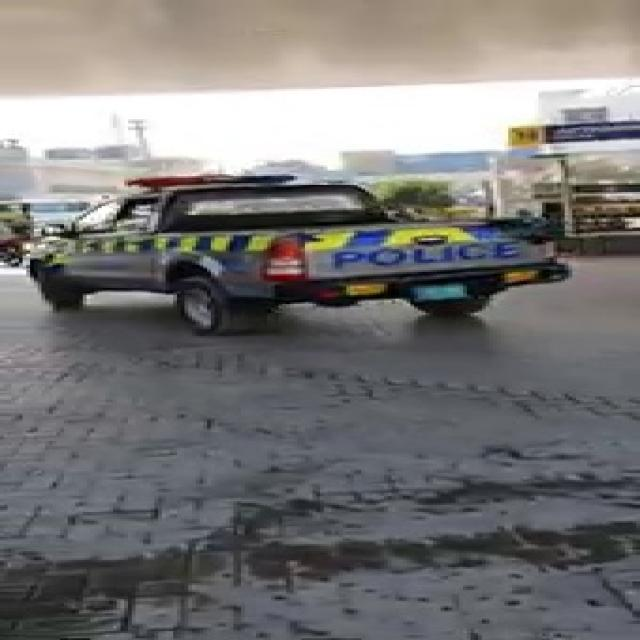police: (31, 159, 594, 341)
